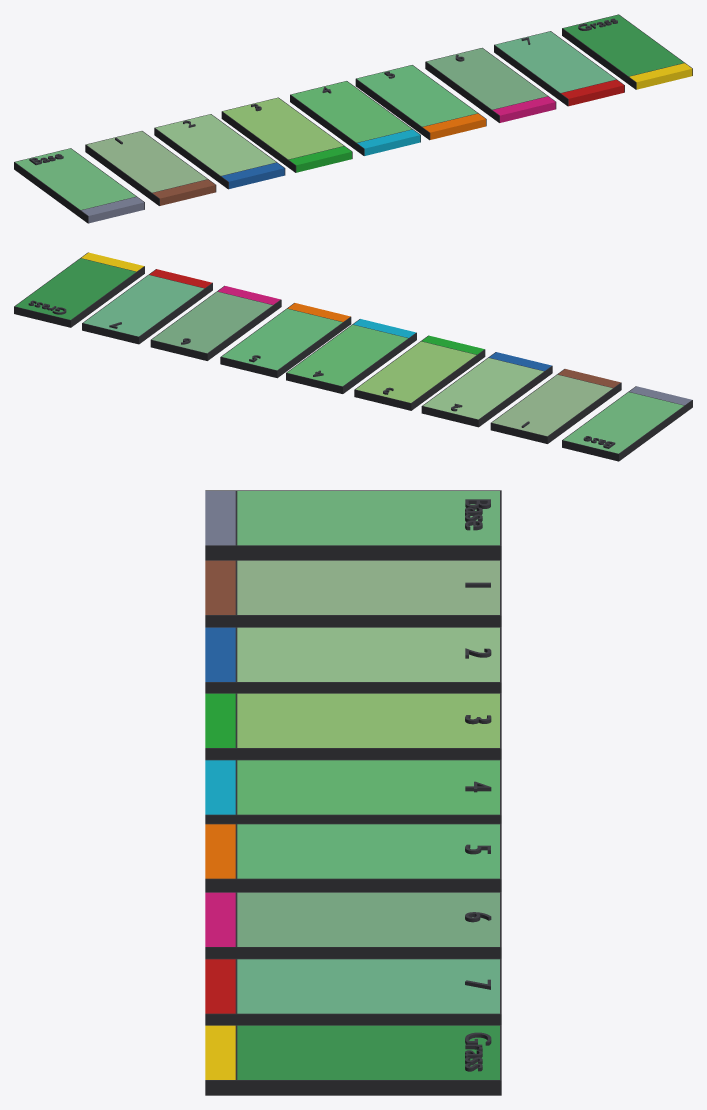
The model's file is colors_test.glb.
The picture shows the model from 3 angles, top to bottom: view 1: azimuth 30°, elevation 25°; view 2: azimuth 150°, elevation 25°; view 3: azimuth 270°, elevation 25°; orthographic projection. The views are drawn at different scales.
Parts seen in each view (by area): view 1: yellow_sector.001; view 2: yellow_sector.001; view 3: yellow_sector.001.
Part boxes in pixels (x1,y1,x2,y2): yellow_sector.001: (14, 14, 692, 223); yellow_sector.001: (14, 252, 692, 461); yellow_sector.001: (205, 490, 501, 1095).
Size of the model in its own units: 84.94 by 1.24 by 18.
Materials: 1 (1 with a texture image).
